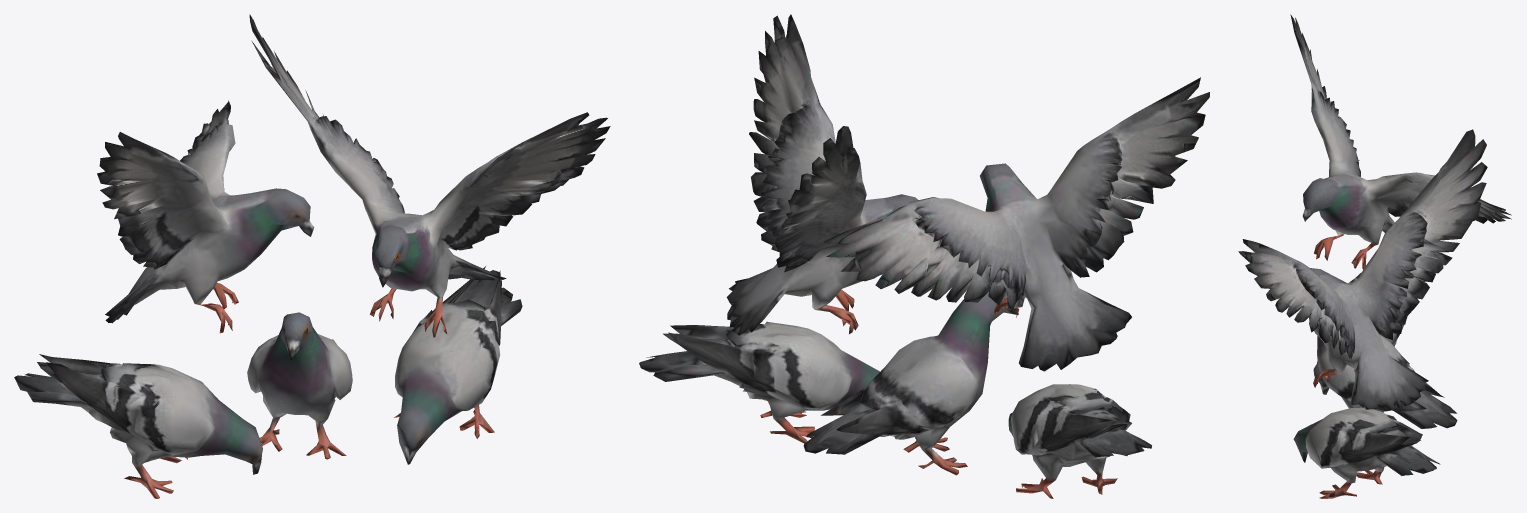
3 views of the same model, side by side, from view 1: azimuth 30°, elevation 25°; view 2: azimuth 150°, elevation 25°; view 3: azimuth 270°, elevation 25° (orthographic). The views are drawn at different scales.
Parts seen in each view (by area): view 1: tripo_node_acd6f373-5f5a-4076-bc5e-e60fa9641724; view 2: tripo_node_acd6f373-5f5a-4076-bc5e-e60fa9641724; view 3: tripo_node_acd6f373-5f5a-4076-bc5e-e60fa9641724.
Part boxes in pixels (x1,y1,x2,y2): tripo_node_acd6f373-5f5a-4076-bc5e-e60fa9641724: (14,14,610,498); tripo_node_acd6f373-5f5a-4076-bc5e-e60fa9641724: (639,14,1209,498); tripo_node_acd6f373-5f5a-4076-bc5e-e60fa9641724: (1238,14,1511,498).
Bounding box in the file's own units: 0.9973 × 0.7882 × 0.5903.
Materials: 1 (1 with a texture image).
